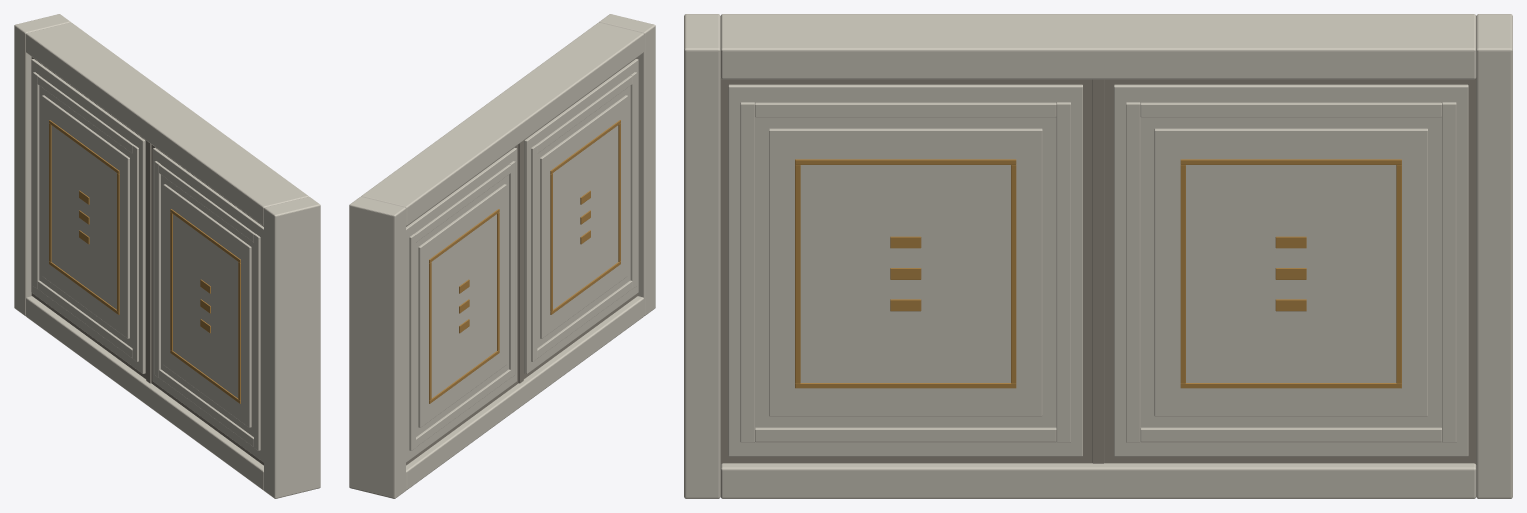
The model's file is SM_Aurelion_KIT_Z06RescueGate.fbx.
3 views of the same model, side by side, from view 1: azimuth 30°, elevation 25°; view 2: azimuth 150°, elevation 25°; view 3: azimuth 270°, elevation 25° (orthographic). The views are drawn at different scales.
Visible parts, largest first — view 1: SM_Aurelion_KIT_Z06RescueGate; view 2: SM_Aurelion_KIT_Z06RescueGate; view 3: SM_Aurelion_KIT_Z06RescueGate.
Boxes of the visible parts, x1=… form: SM_Aurelion_KIT_Z06RescueGate: x1=14, y1=14, x2=320, y2=498; SM_Aurelion_KIT_Z06RescueGate: x1=349, y1=14, x2=655, y2=498; SM_Aurelion_KIT_Z06RescueGate: x1=684, y1=14, x2=1512, y2=498.
Bounding box in the file's own units: 44 × 430 × 258.
